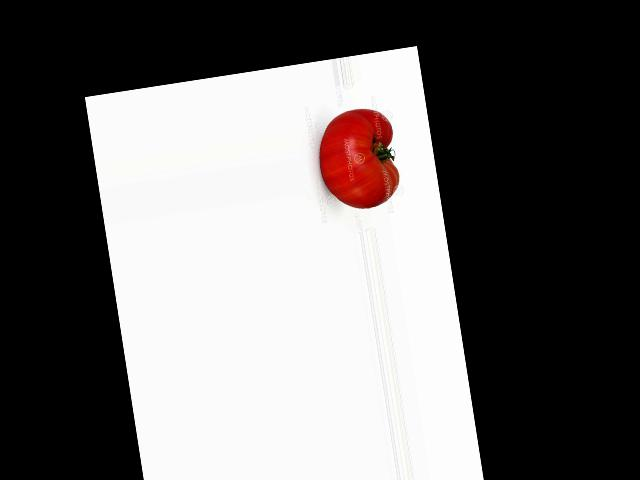tomato: (312, 105, 403, 214)
